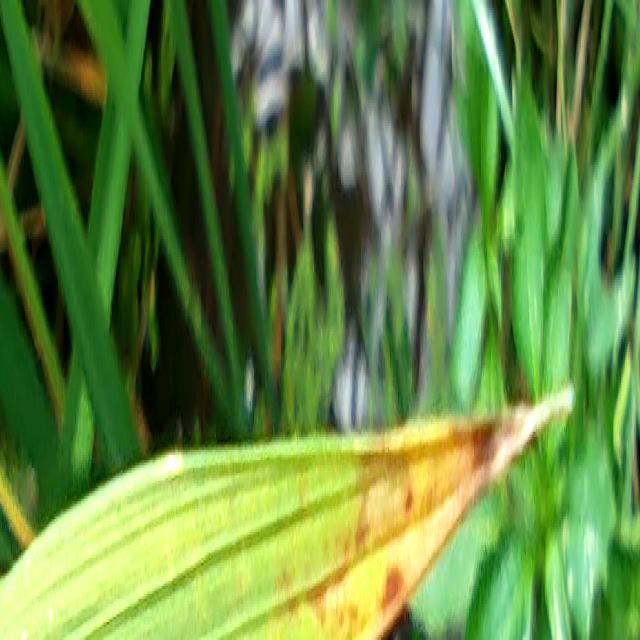NBS: (383, 566, 404, 606), (406, 488, 414, 514)
